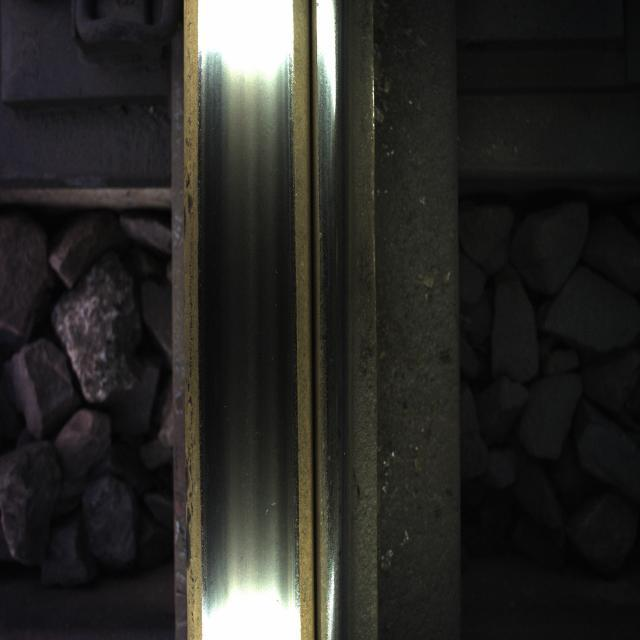break: (202, 42, 296, 618)
